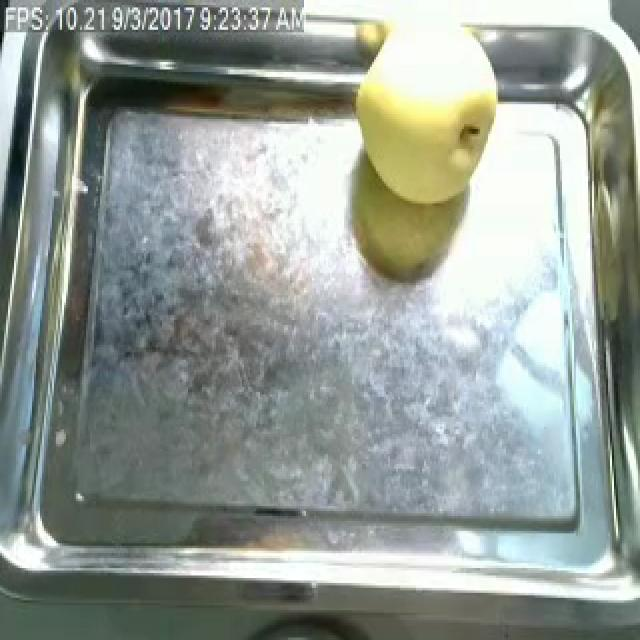Fruit: (346, 18, 514, 214)
